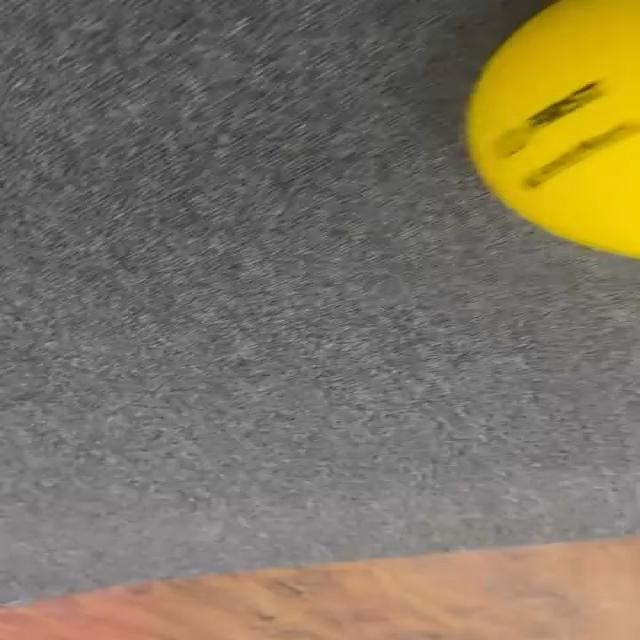Fuels: (469, 0, 638, 256)
